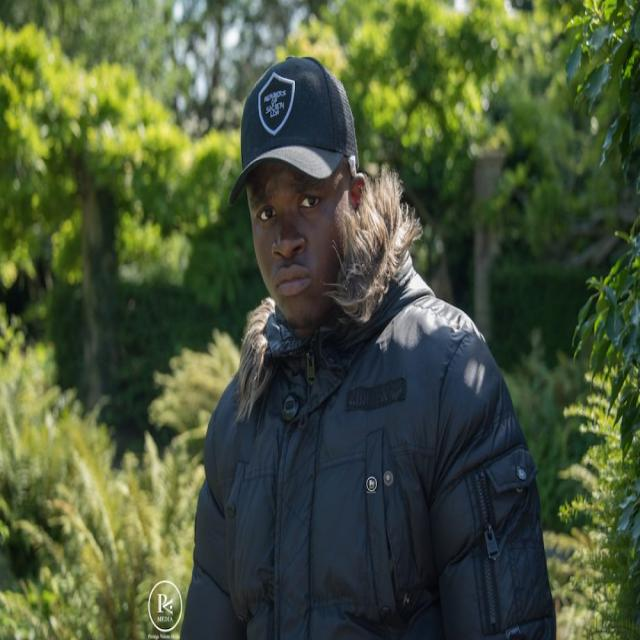human: (176, 46, 559, 640)
